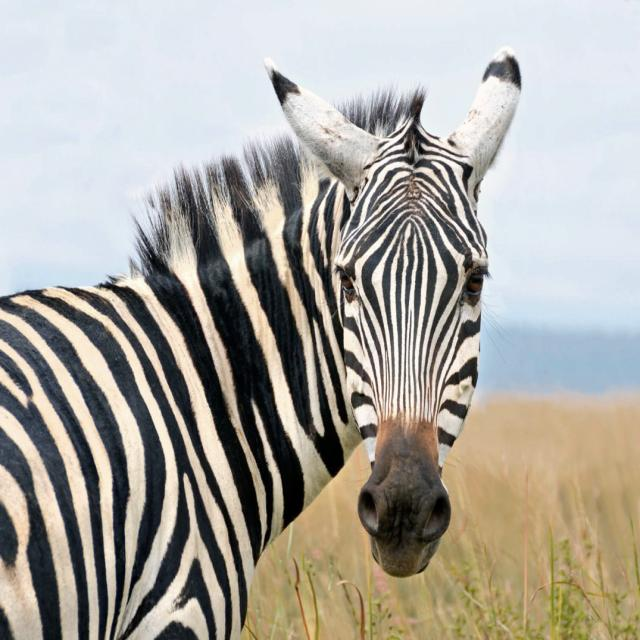zebra: (1, 48, 521, 639)
